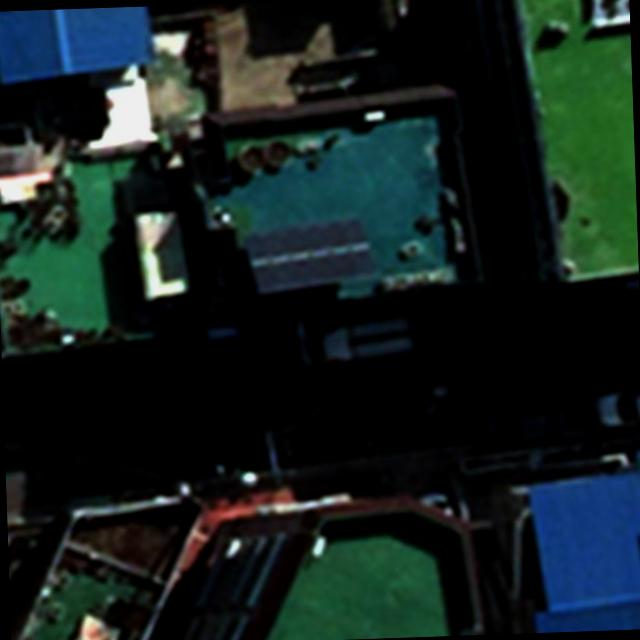solar: (239, 212, 379, 299)
